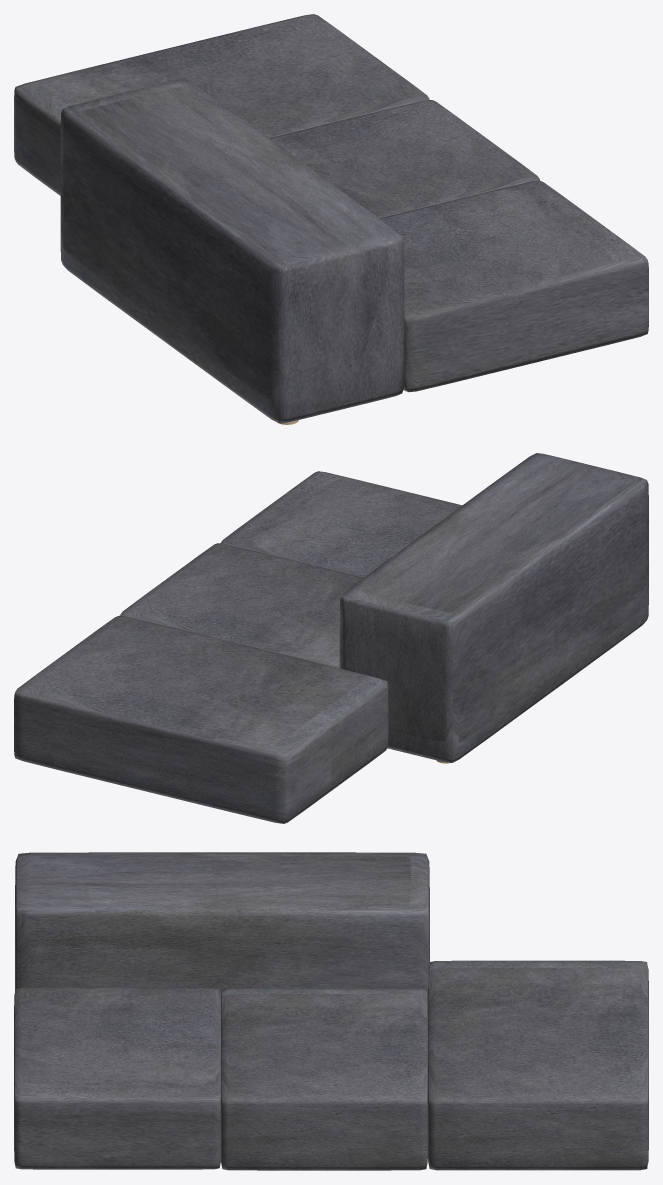
Rendered from divano.fbx.
3 views of the same model, one above another, from view 1: azimuth 30°, elevation 25°; view 2: azimuth 150°, elevation 25°; view 3: azimuth 270°, elevation 25° (orthographic). The views are drawn at different scales.
Visible parts, largest first — view 1: Cube.002, Cube.003, Cube.001, Cube; view 2: Cube.002, Cube.001, Cube, Cube.003; view 3: Cube.002, Cube.001, Cube, Cube.003.
Part boxes in pixels (x1=…): Cube.002: x1=60, y1=79, x2=404, y2=423; Cube.003: x1=379, y1=180, x2=648, y2=392; Cube.001: x1=14, y1=14, x2=429, y2=195; Cube: x1=269, y1=100, x2=540, y2=218; Cube.002: x1=339, y1=453, x2=648, y2=762; Cube.001: x1=14, y1=615, x2=388, y2=823; Cube: x1=120, y1=543, x2=363, y2=668; Cube.003: x1=221, y1=471, x2=461, y2=577; Cube.002: x1=15, y1=852, x2=429, y2=995; Cube.001: x1=427, y1=960, x2=648, y2=1170; Cube: x1=221, y1=988, x2=427, y2=1170; Cube.003: x1=14, y1=987, x2=220, y2=1169.
Size of the model in its own units: 148 by 63.37 by 230.
Materials: 2 (2 with a texture image).
